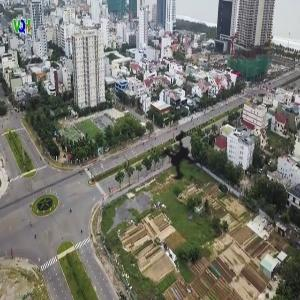drone: (116, 87, 256, 227)
